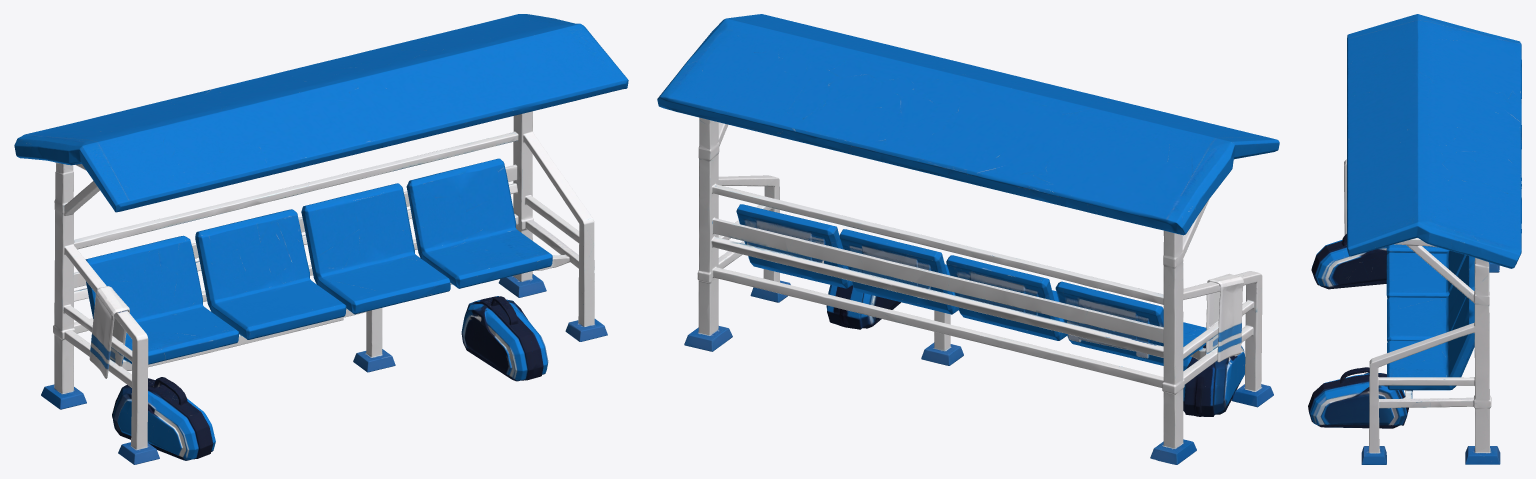
File: sideline-shelter.glb
3 views of the same model, side by side, from view 1: azimuth 30°, elevation 25°; view 2: azimuth 150°, elevation 25°; view 3: azimuth 270°, elevation 25° (orthographic). The views are drawn at different scales.
Size of the model in its own units: 1.9 by 1 by 0.7898.
Materials: 1 (1 with a texture image).
